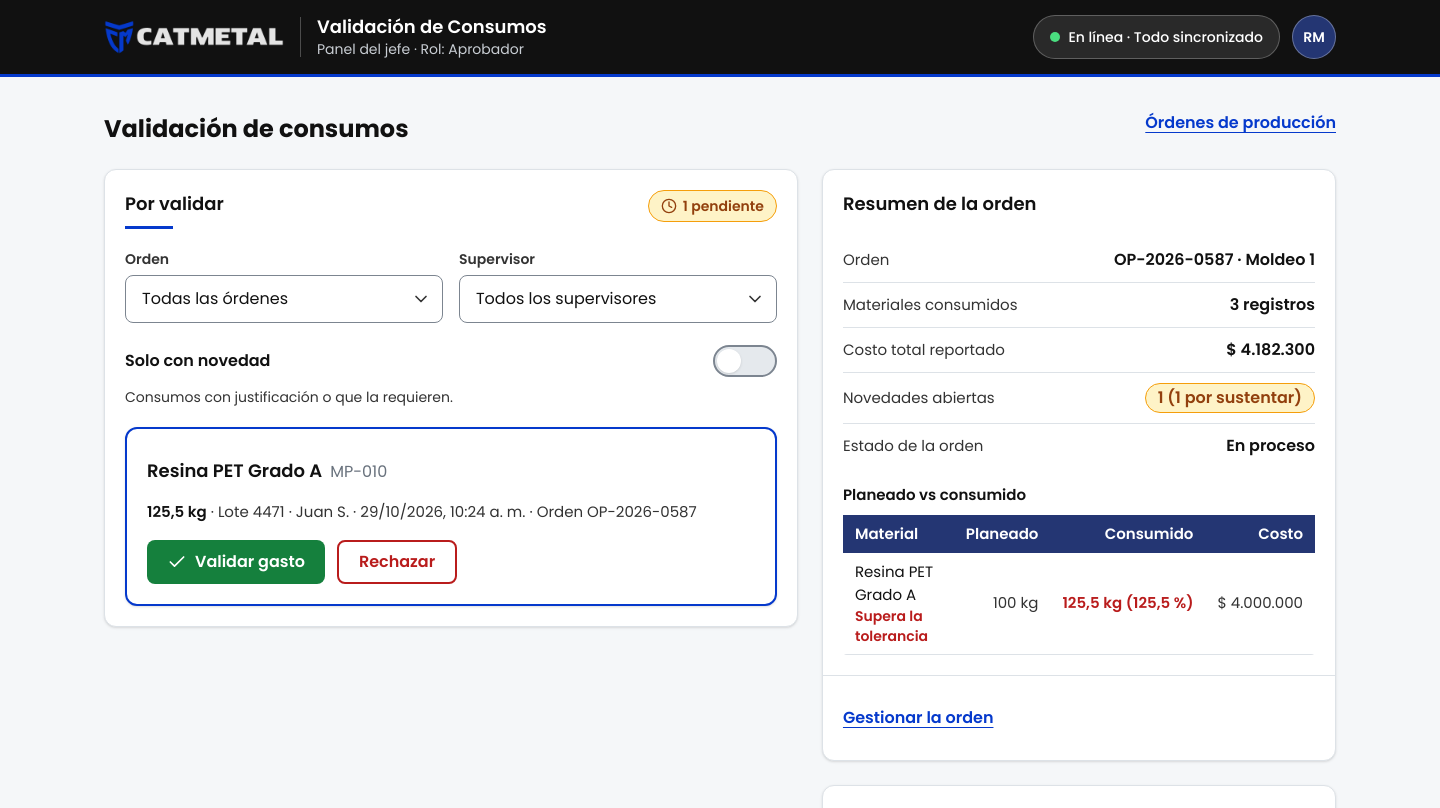
Test: cola de validación › rechazar exige un motivo de 3 a 500 caracteres
Click the button with aria-label "Rechazar Resina PET Grado A". click: [397, 562]
box: [337,540,457,584]
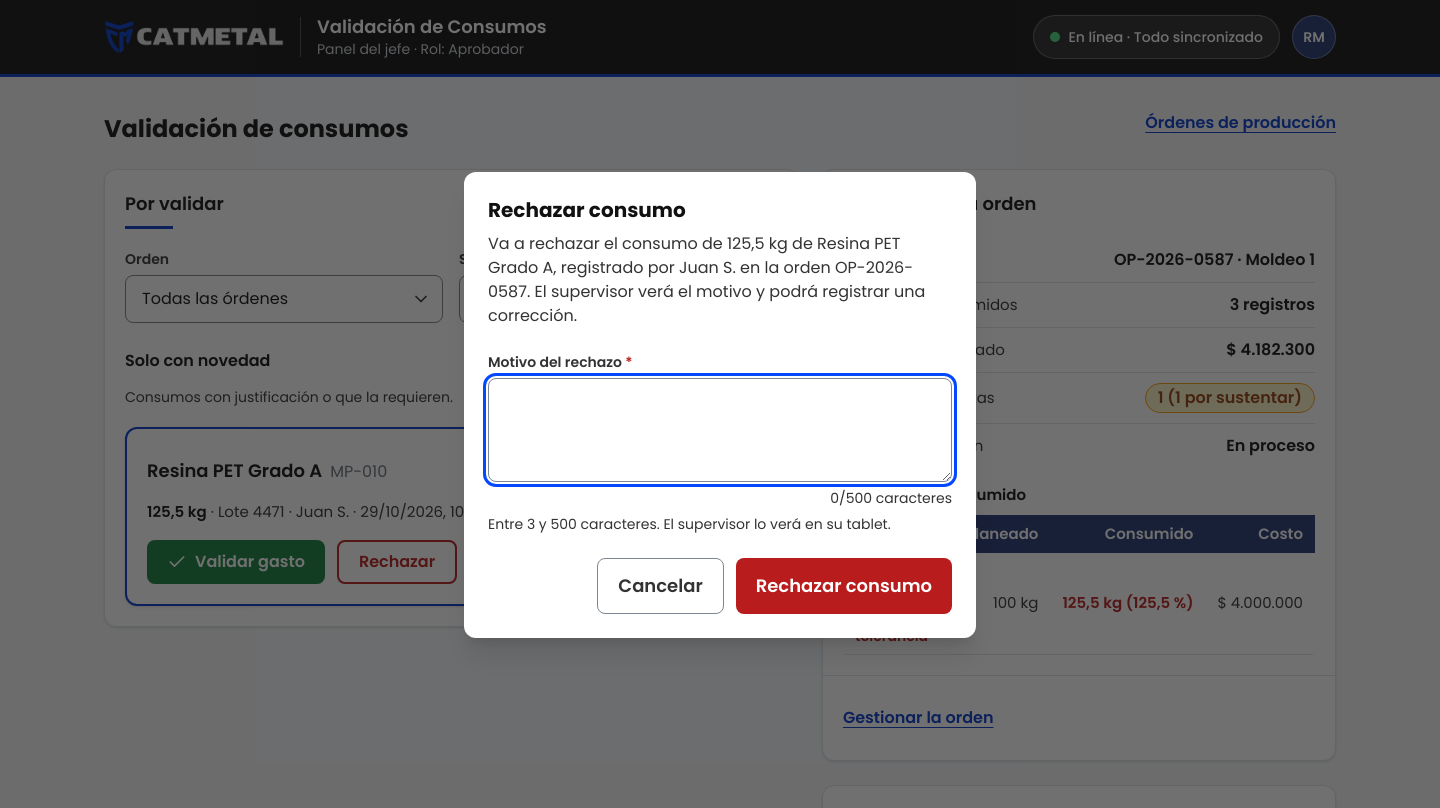
Click the button "Rechazar consumo". click: [844, 586]
box: [736,558,952,614]
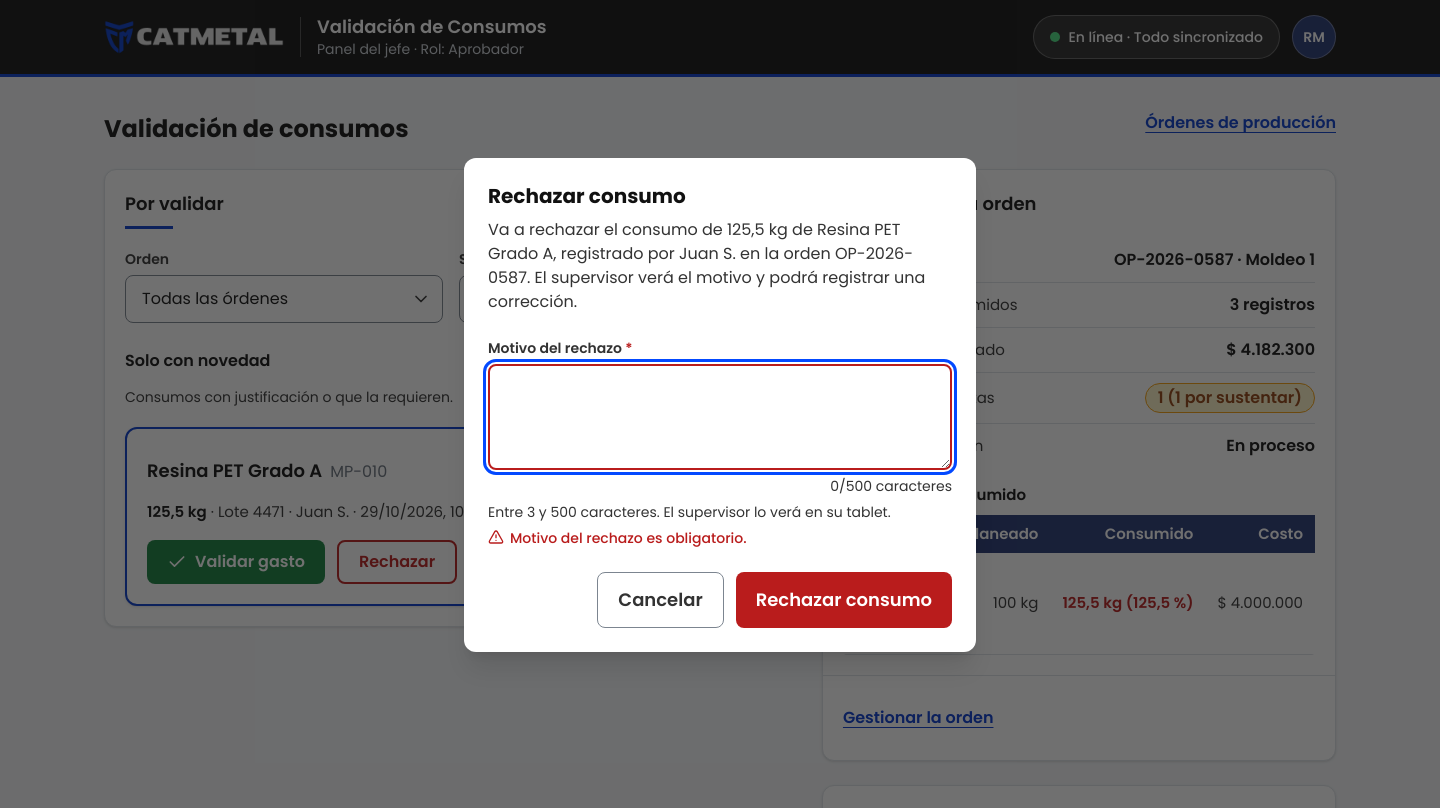
Expected: the text "Motivo del rechazo es obligatorio." is shown, [510,528,746,548]
Type "no" into the text box labelled "Motivo del rechazo *". click: [720, 417]
box: [488,364,952,470]
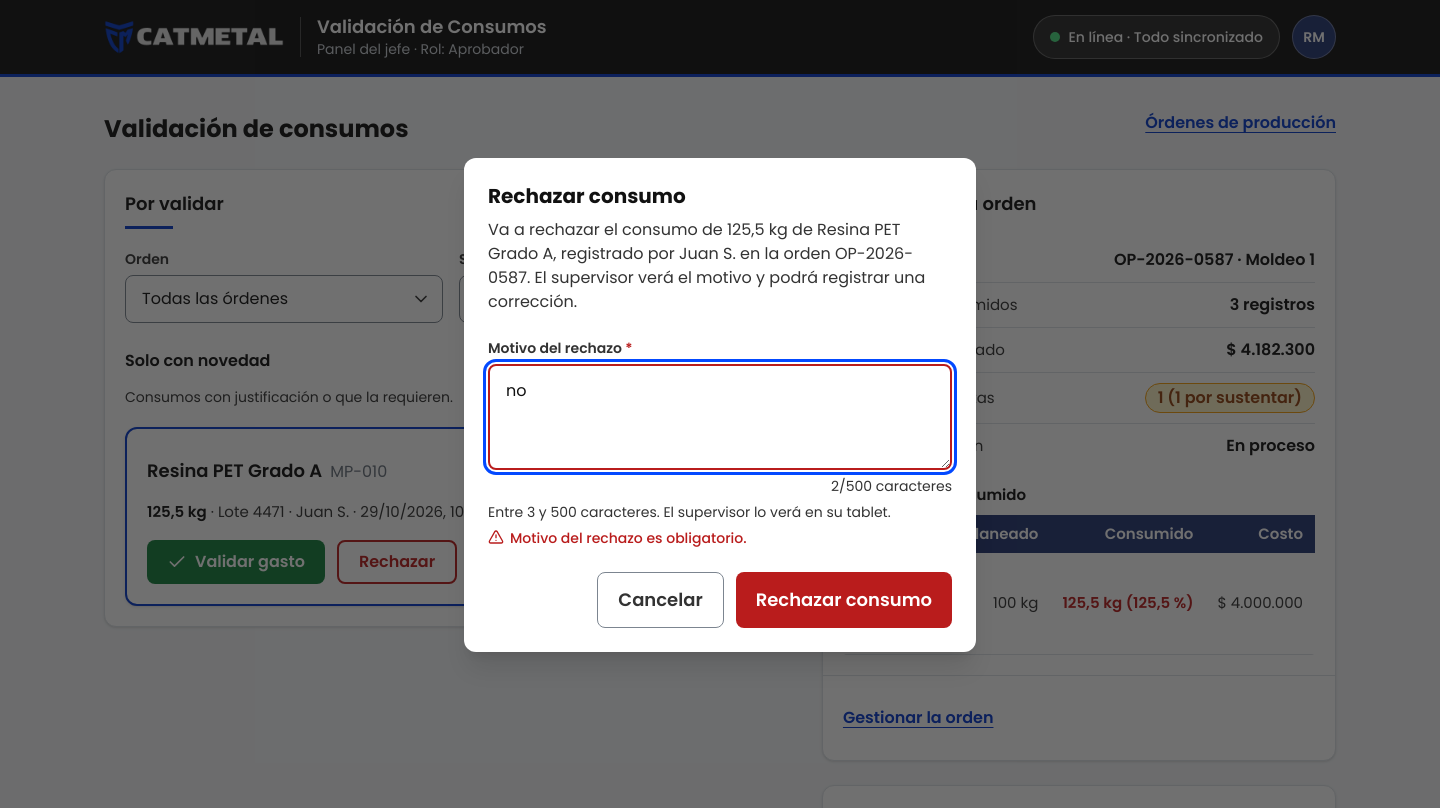
Click the button "Rechazar consumo". click: [844, 600]
box: [736,572,952,628]
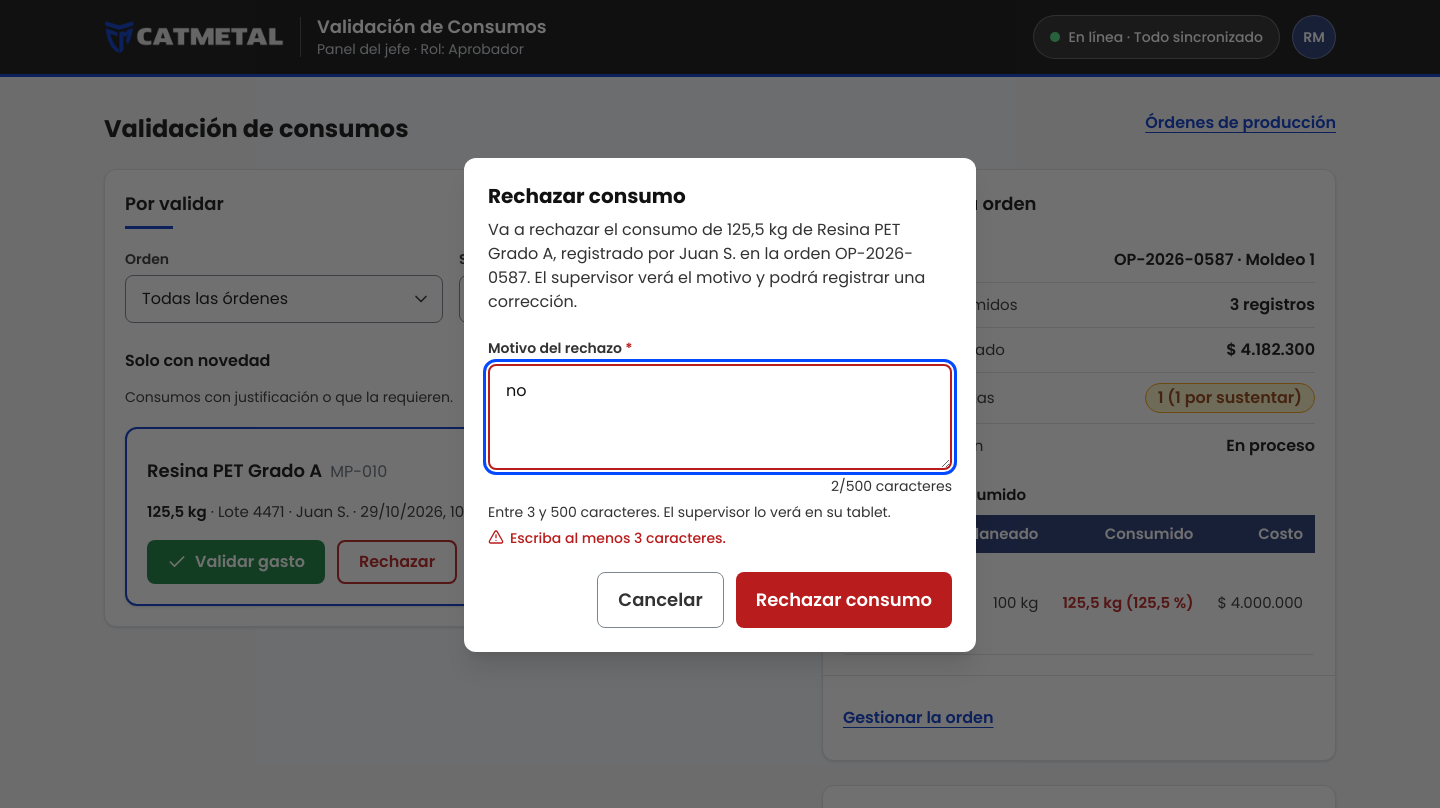
Expected: the text "Escriba al menos 3 caracteres." is shown, [510,528,726,548]
Type " coincide con el lote" into the text box labelled "Motivo del rechazo *". click: [720, 417]
box: [488,364,952,470]
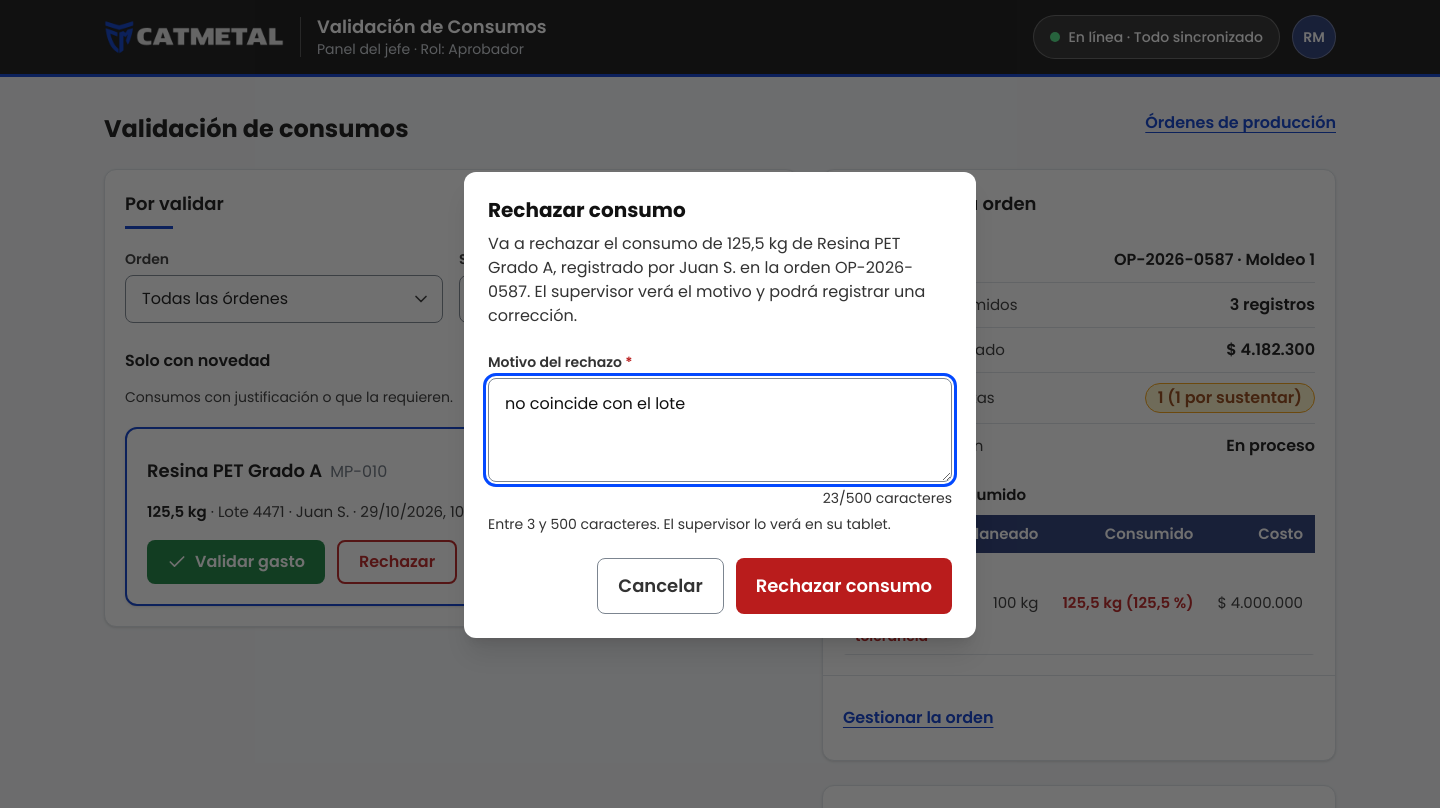
Click the button "Rechazar consumo". click: [844, 586]
box: [736,558,952,614]
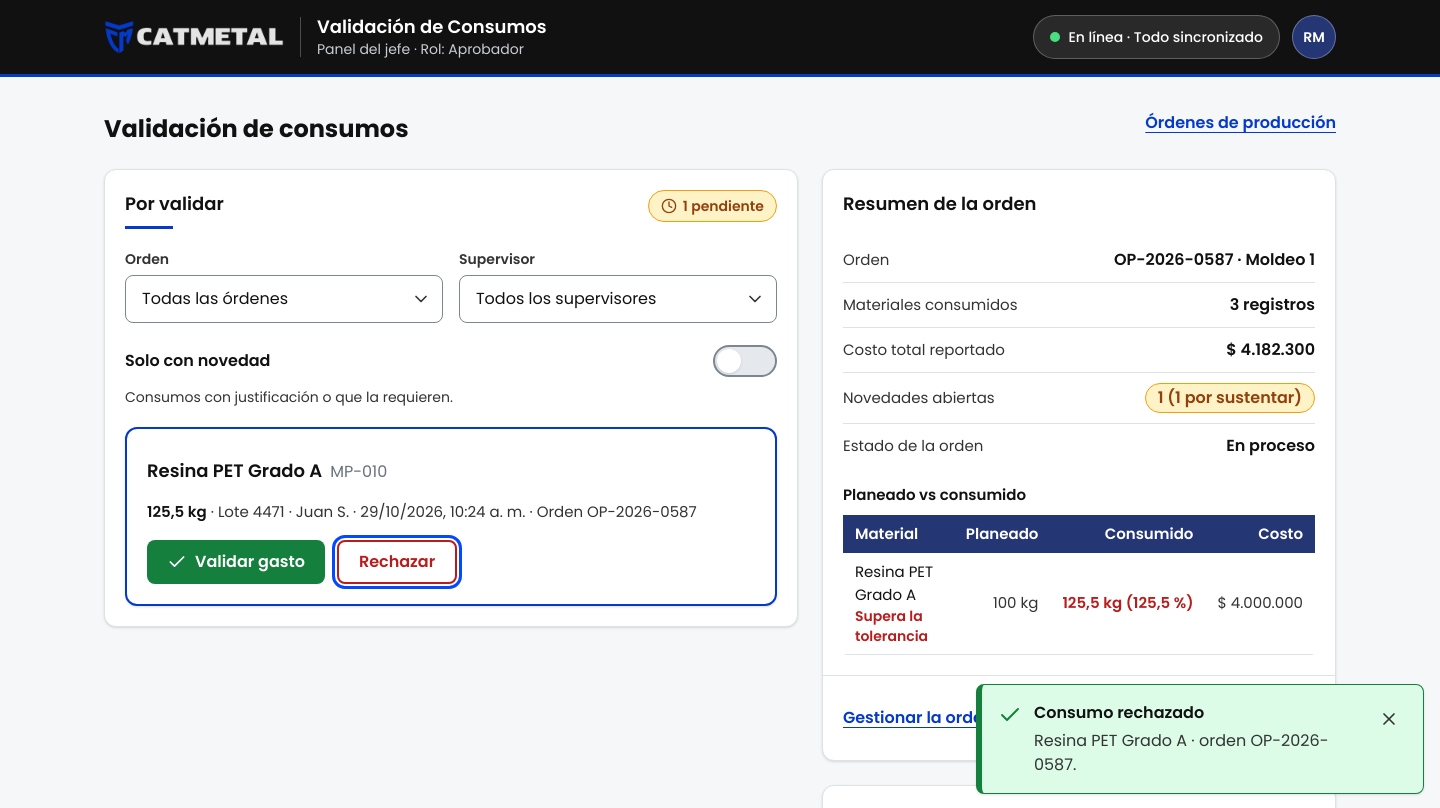
Expected: the text "Consumo rechazado" is shown, [1033,700,1204,724]
